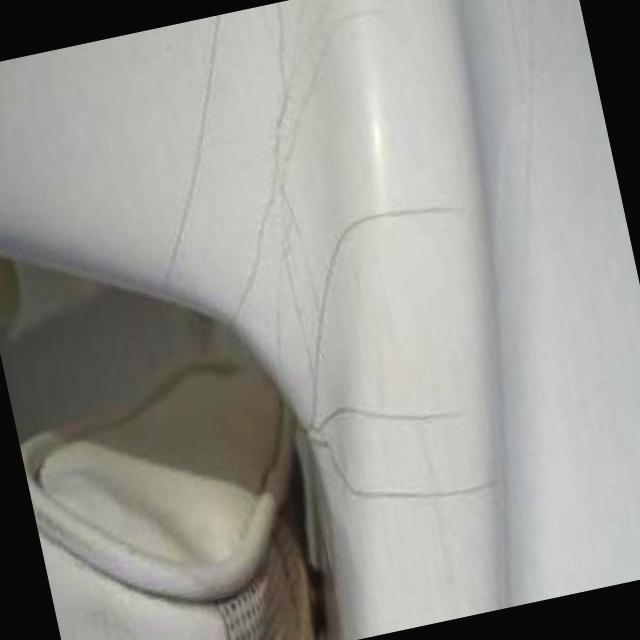crack: (320, 366, 500, 449), (340, 170, 474, 252), (341, 462, 468, 544)
